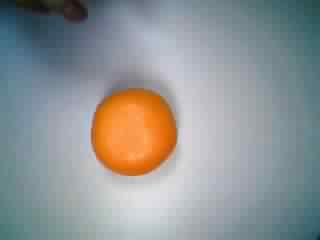orange: (82, 85, 177, 179)
